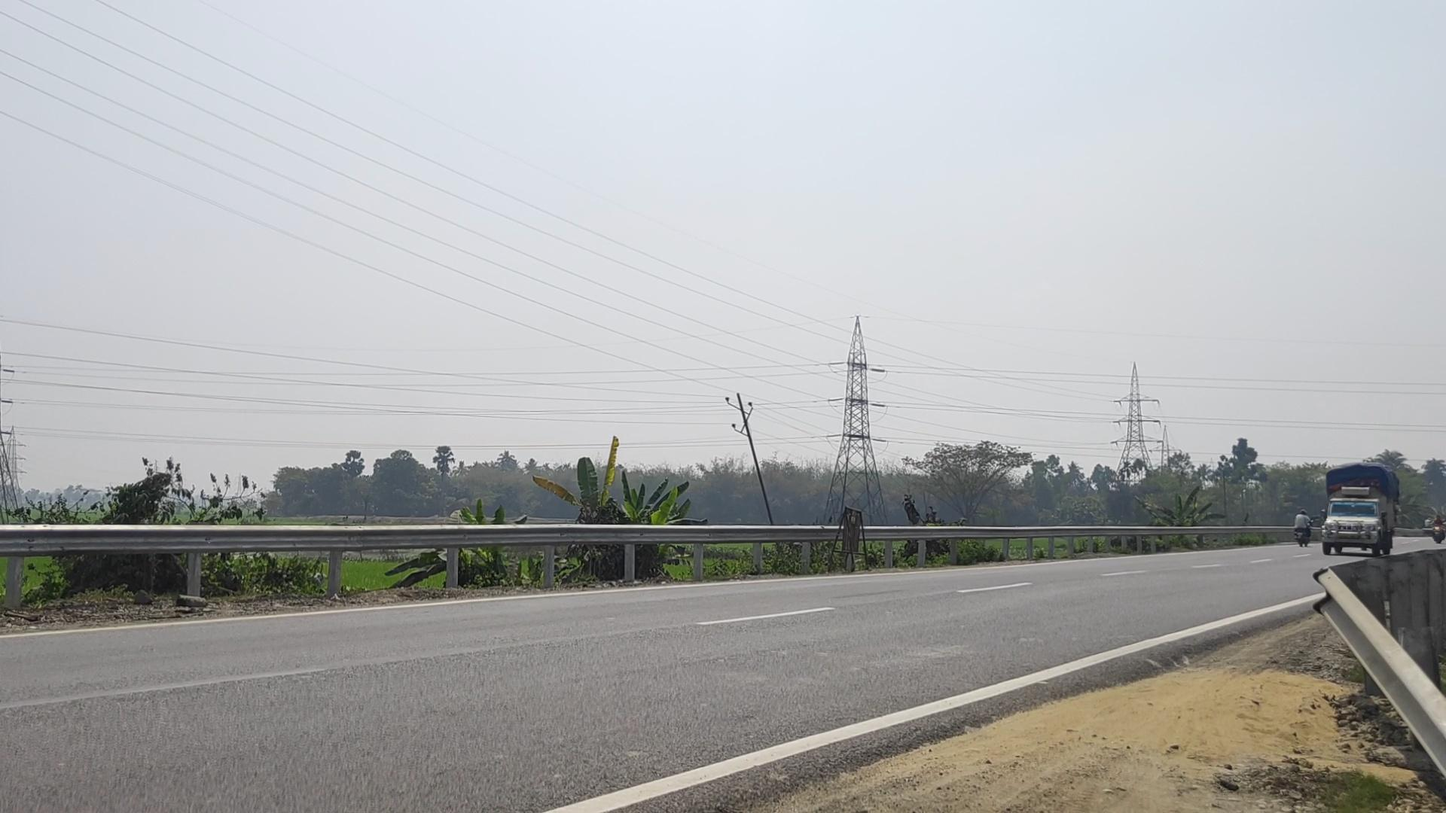bike: (1293, 509, 1314, 547), (1429, 515, 1446, 544)
van: (1320, 463, 1400, 558)
